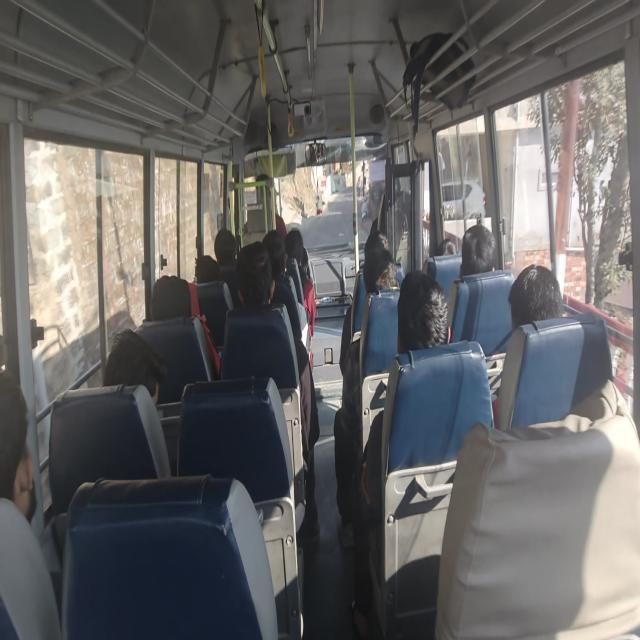person: (0, 351, 13, 640), (514, 261, 560, 326), (107, 326, 154, 388), (416, 284, 458, 346), (461, 224, 498, 276), (150, 290, 185, 344), (245, 250, 273, 314), (367, 256, 396, 297), (288, 222, 312, 270), (268, 236, 290, 281), (363, 214, 385, 257), (428, 227, 456, 259), (195, 263, 220, 298), (220, 238, 238, 273)
